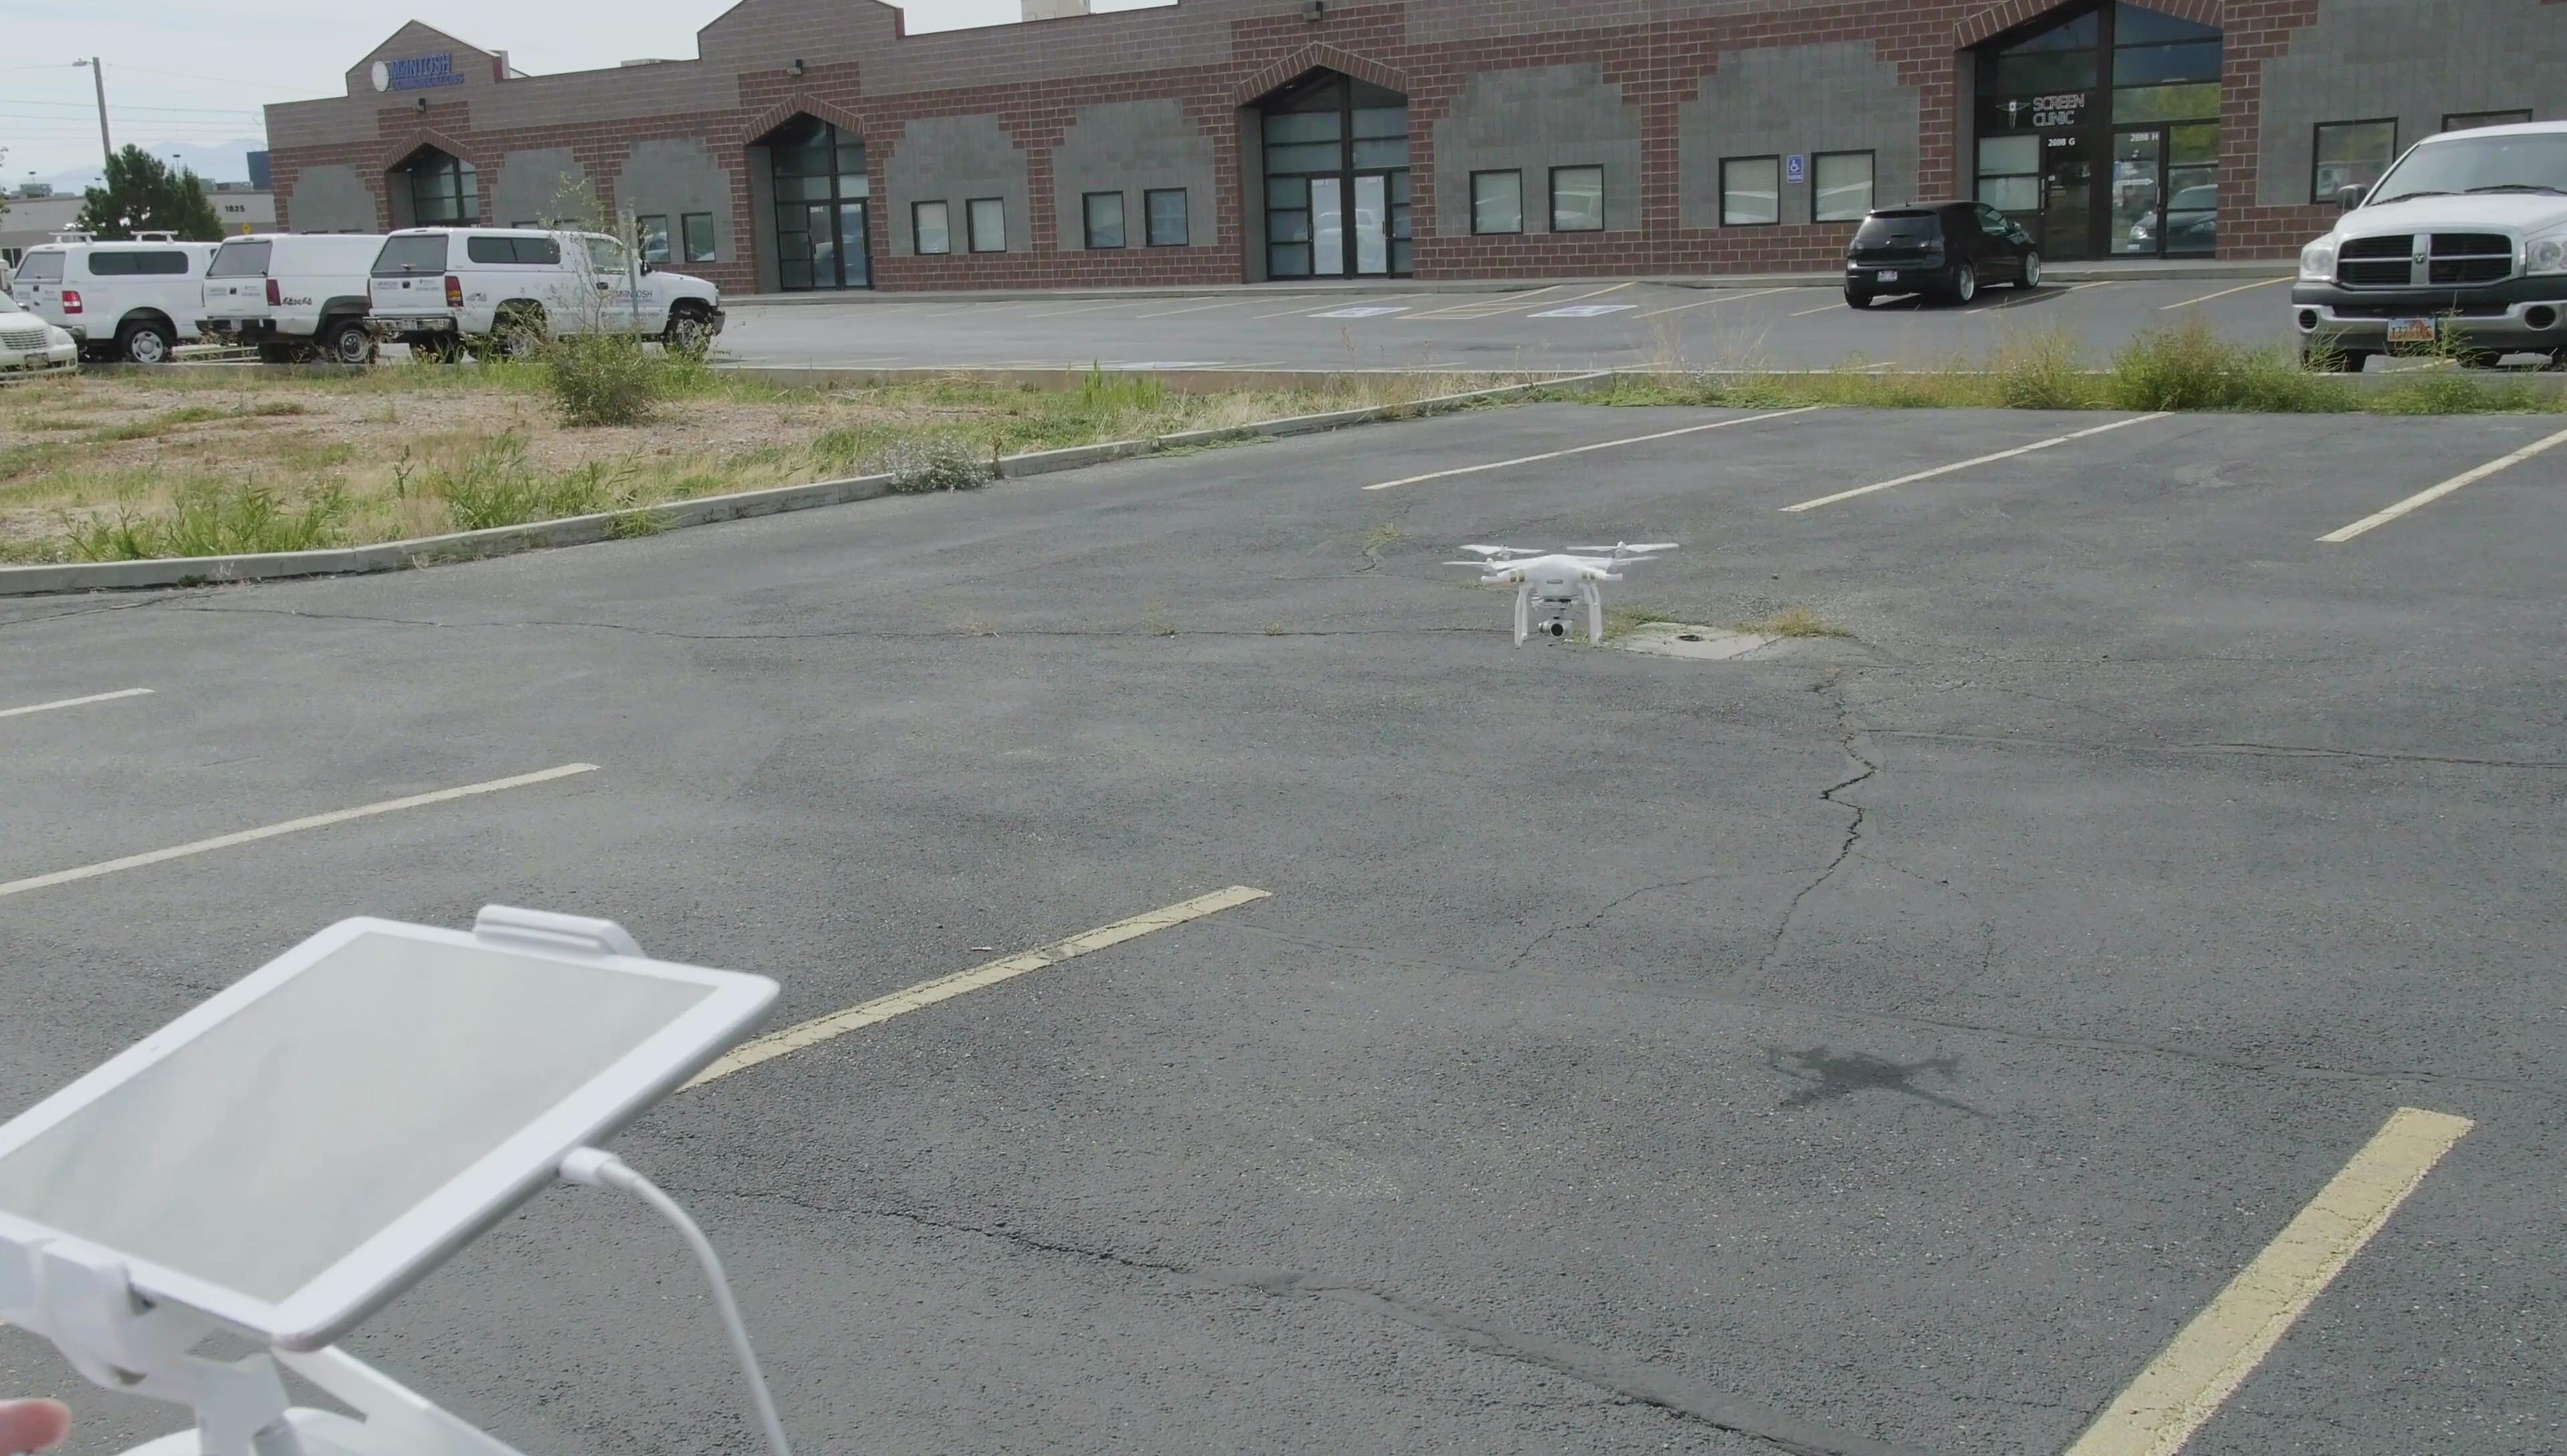drone: (1453, 525, 1677, 645)
